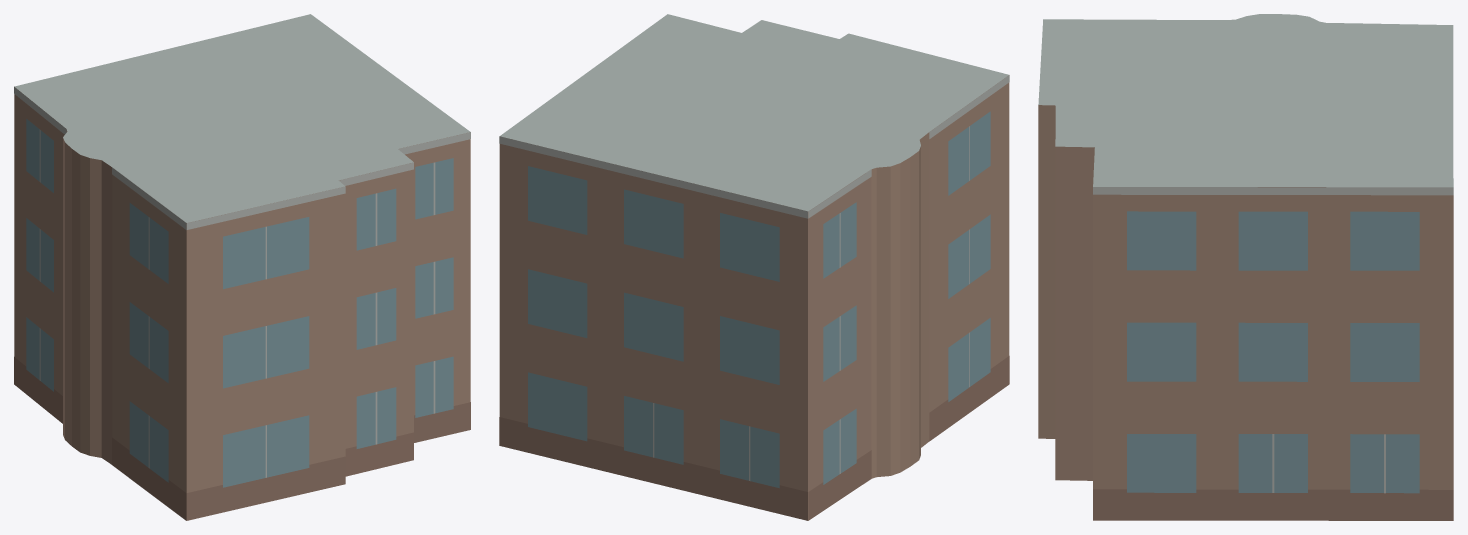
Rendered from survey-upis-32607964.glb.
The picture shows the model from 3 angles, left to right: view 1: azimuth 30°, elevation 25°; view 2: azimuth 150°, elevation 25°; view 3: azimuth 270°, elevation 25°; orthographic projection. The views are drawn at different scales.
Visible parts, largest first — view 1: survey-upis-32607964.tmp; view 2: survey-upis-32607964.tmp; view 3: survey-upis-32607964.tmp.
Part boxes in pixels (left/top/right/bottom): survey-upis-32607964.tmp: left=14, top=14, right=470, bottom=520; survey-upis-32607964.tmp: left=499, top=14, right=1009, bottom=520; survey-upis-32607964.tmp: left=1038, top=14, right=1453, bottom=520.
Size of the model in its own units: 11.37 by 10.2 by 11.52.
